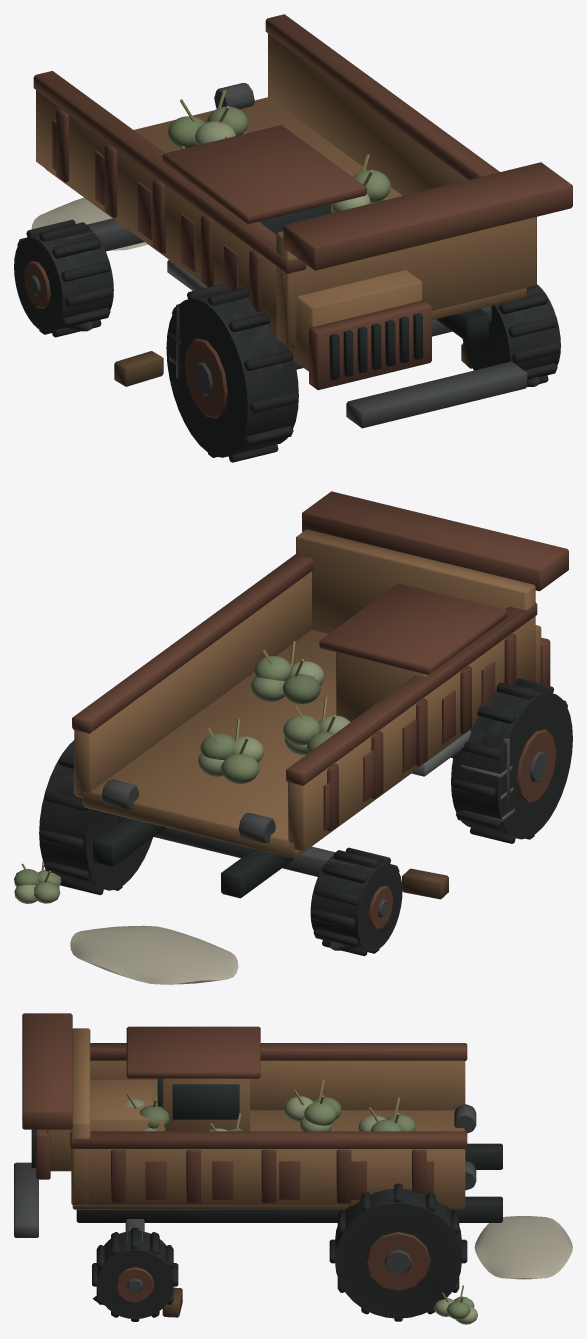
File: haul_truck_c.glb
3 views of the same model, one above another, from view 1: azimuth 30°, elevation 25°; view 2: azimuth 150°, elevation 25°; view 3: azimuth 270°, elevation 25° (orthographic). The views are drawn at different scales.
Visible parts, largest first — view 1: Surface; view 2: Surface; view 3: Surface.
Part boxes in pixels (<box>): Surface: <box>14,14,572,462</box>; Surface: <box>14,491,572,984</box>; Surface: <box>14,1013,572,1324</box>.
Bounding box in the file's own units: 7.8 × 5.25 × 13.38.
